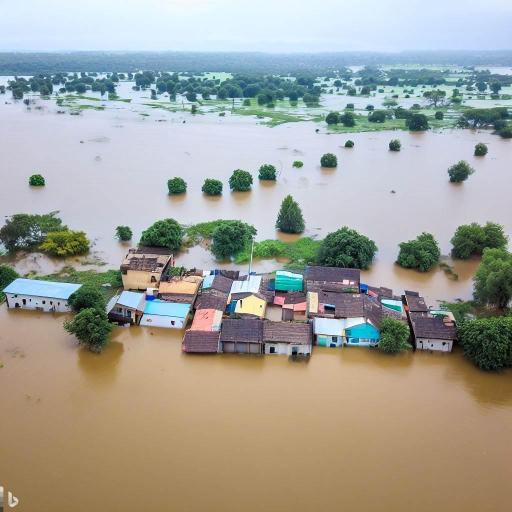flood: (0, 80, 512, 307), (0, 304, 512, 512), (378, 64, 512, 117), (318, 76, 436, 114), (476, 64, 512, 75), (194, 72, 233, 81), (0, 75, 14, 85), (350, 64, 366, 72), (18, 74, 31, 79), (179, 74, 190, 78)
house: (6, 276, 76, 317), (310, 310, 384, 348), (410, 306, 458, 356), (121, 246, 175, 290), (310, 290, 384, 318), (262, 318, 312, 358), (108, 289, 152, 329), (142, 296, 191, 331), (220, 318, 264, 356), (306, 266, 362, 294), (190, 294, 226, 333), (158, 266, 202, 296), (266, 268, 310, 296), (182, 328, 220, 356), (232, 292, 268, 320), (201, 273, 233, 295), (402, 290, 429, 312)
